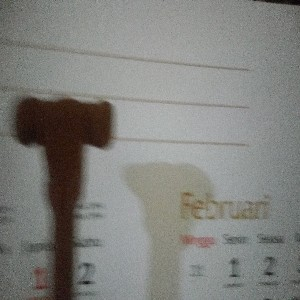palu: (13, 96, 115, 300)
